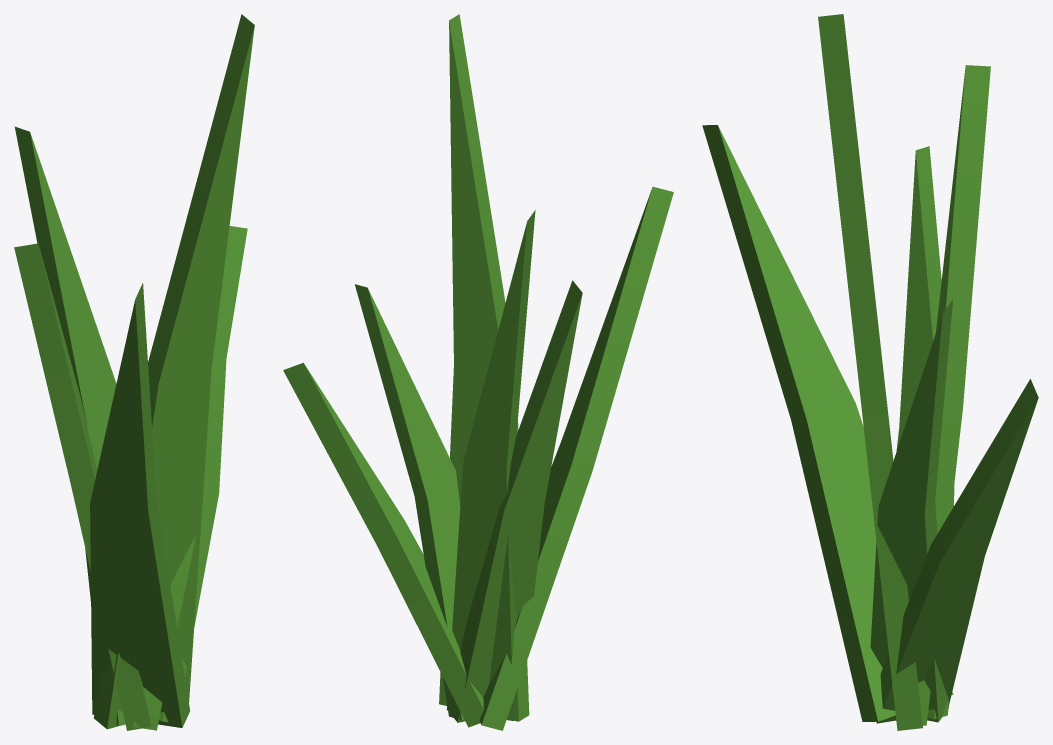
File: prop_grass_1.glb
3 views of the same model, side by side, from view 1: azimuth 30°, elevation 25°; view 2: azimuth 150°, elevation 25°; view 3: azimuth 270°, elevation 25° (orthographic). The views are drawn at different scales.
Parts seen in each view (by area): view 1: Blade0, Blade5, Blade4, Blade3, Blade1, Blade2; view 2: Blade5, Blade0, Blade3, Blade4, Blade2, Blade1; view 3: Blade5, Blade0, Blade2, Blade1, Blade3, Blade4.
Boxes of the visible parts, box(x1,y1,x2,y2) form: Blade0: box(94, 14, 254, 729); Blade5: box(90, 283, 189, 727); Blade4: box(14, 243, 151, 730); Blade3: box(15, 126, 125, 725); Blade1: box(132, 226, 247, 730); Blade2: box(159, 361, 226, 722); Blade5: box(479, 186, 673, 730); Blade0: box(439, 14, 529, 721); Blade3: box(446, 210, 535, 720); Blade4: box(447, 280, 582, 722); Blade2: box(283, 362, 483, 727); Blade1: box(354, 284, 463, 719); Blade5: box(702, 125, 953, 721); Blade0: box(818, 14, 922, 730); Blade2: box(876, 379, 1038, 723); Blade1: box(870, 299, 952, 722); Blade3: box(918, 65, 990, 725); Blade4: box(896, 146, 954, 719).
Size of the model in its own units: 0.377 by 0.9439 by 0.392.
